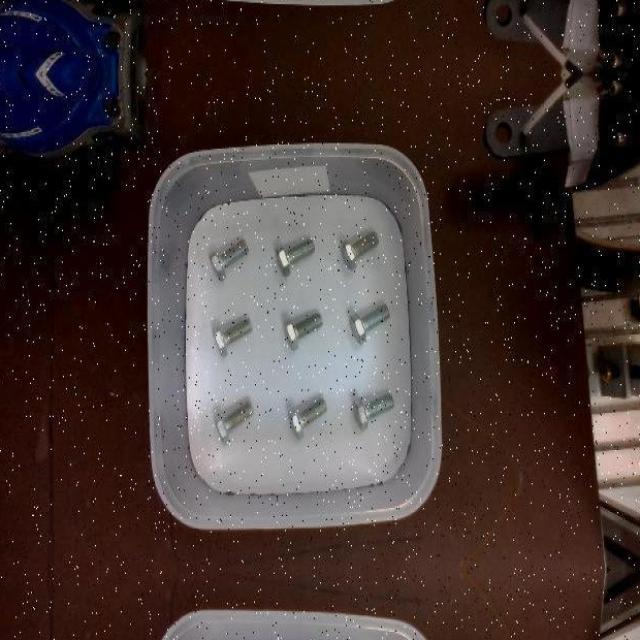screw: (214, 399, 255, 444), (208, 238, 249, 282), (350, 301, 391, 343), (353, 392, 395, 431), (289, 398, 328, 440), (213, 317, 253, 357), (275, 238, 316, 277), (341, 229, 380, 269), (283, 311, 323, 349)
